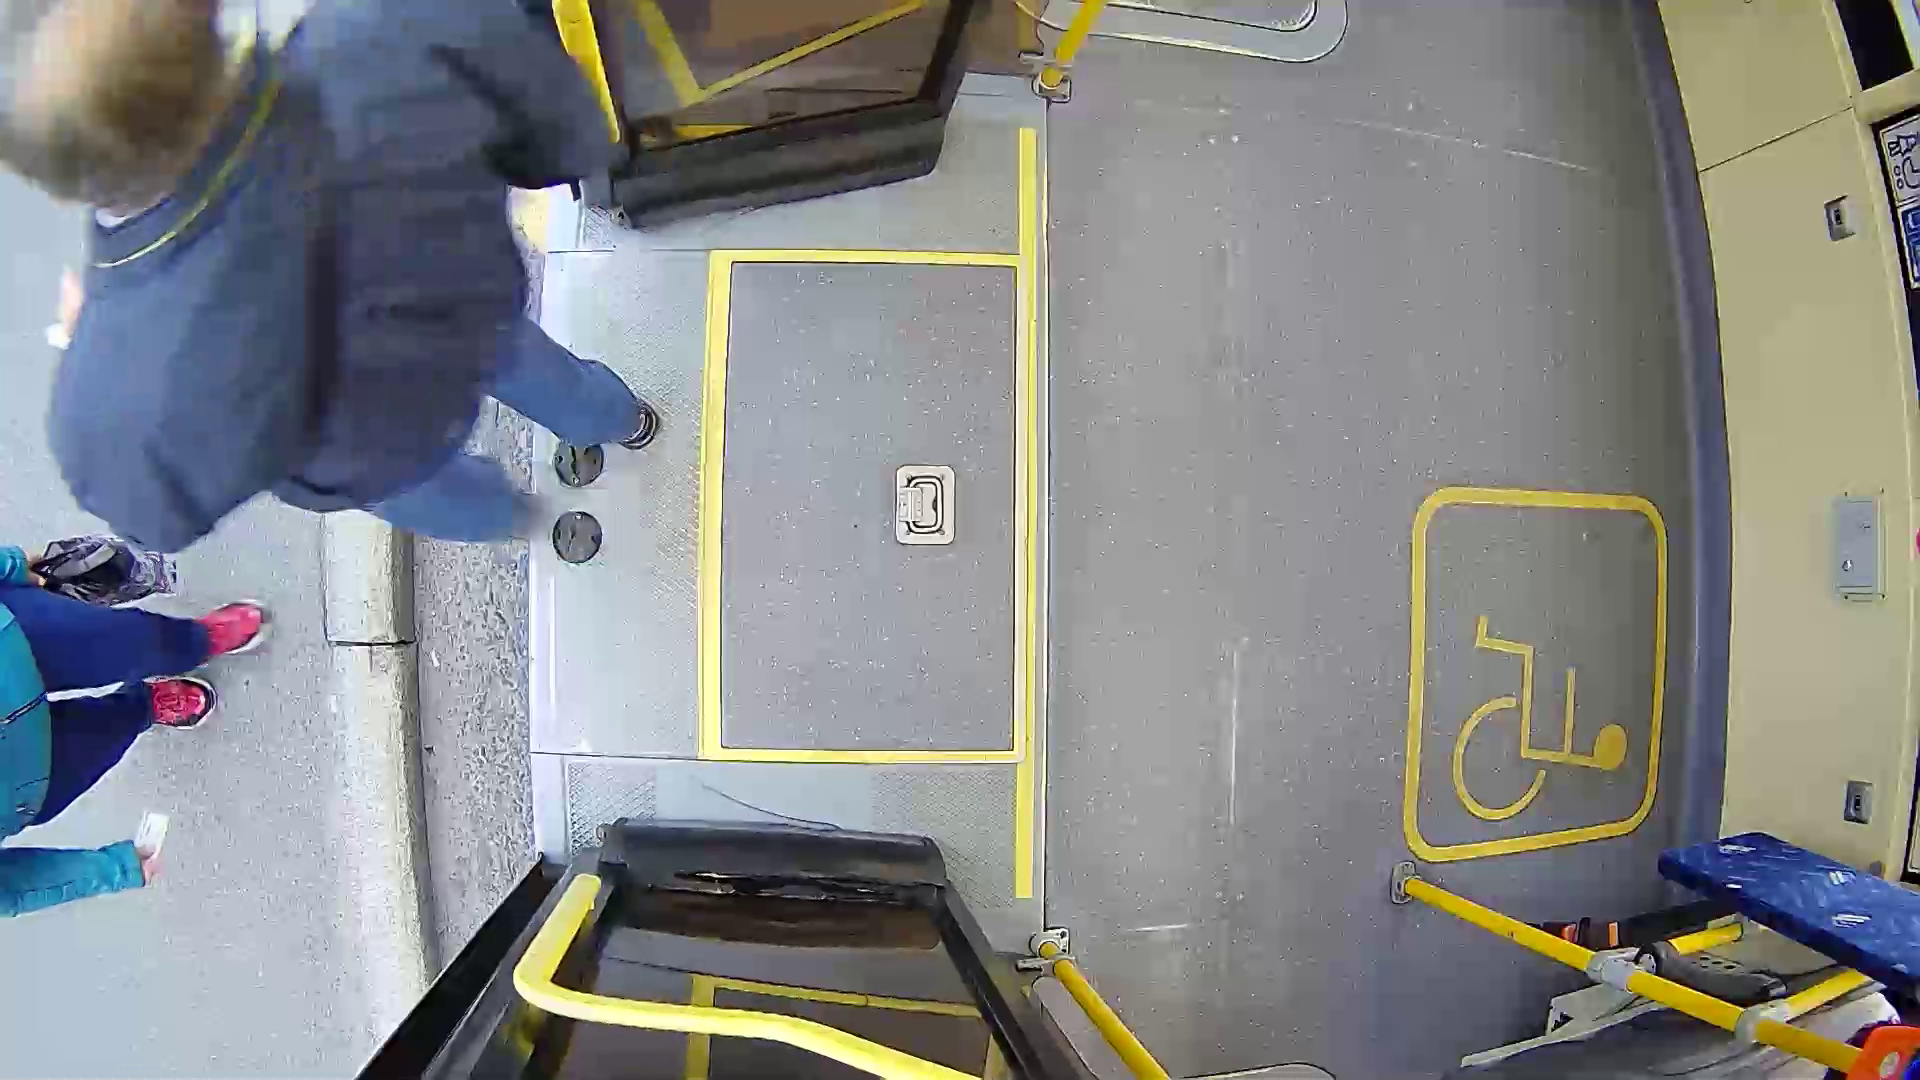person: (4, 10, 771, 583)
